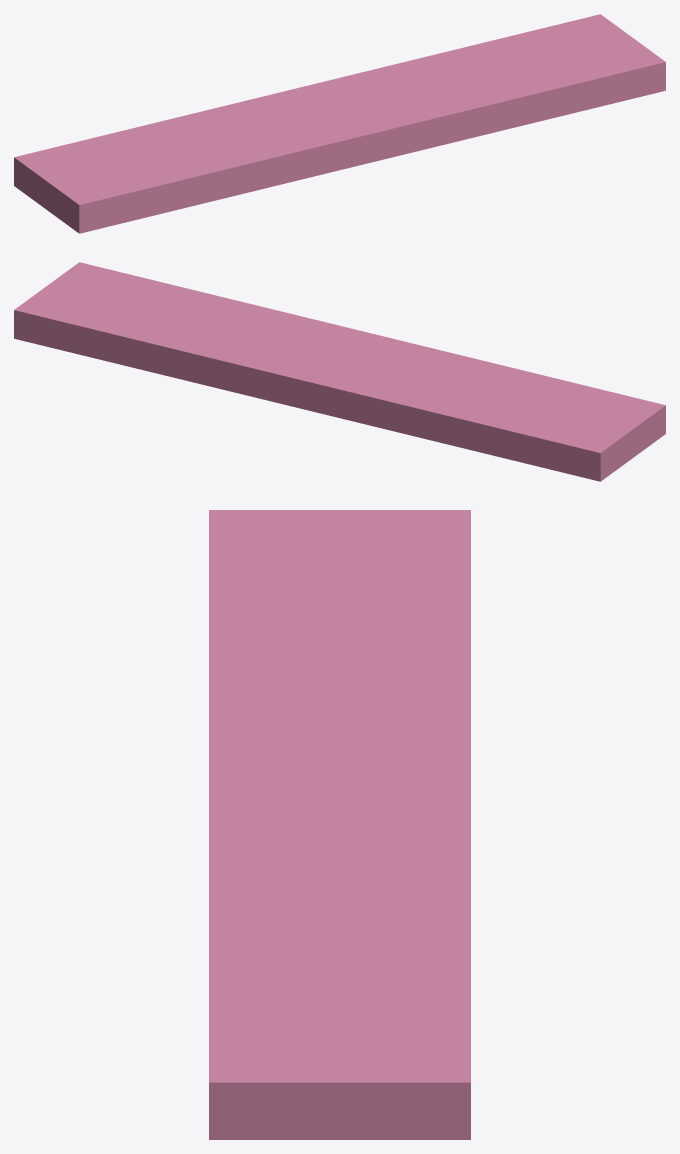
File: curb_roundb_8m_b.dae
The picture shows the model from 3 angles, top to bottom: view 1: azimuth 30°, elevation 25°; view 2: azimuth 150°, elevation 25°; view 3: azimuth 270°, elevation 25°; orthographic projection. The views are drawn at different scales.
Visible parts, largest first — view 1: Untitled; view 2: Untitled; view 3: Untitled.
Boxes of the visible parts, x1,y1,x2,y2 form: Untitled: (14, 14, 665, 233); Untitled: (14, 262, 665, 481); Untitled: (209, 510, 470, 1139).
Size of the model in its own units: 8.73 by 1.69 by 0.4075.
